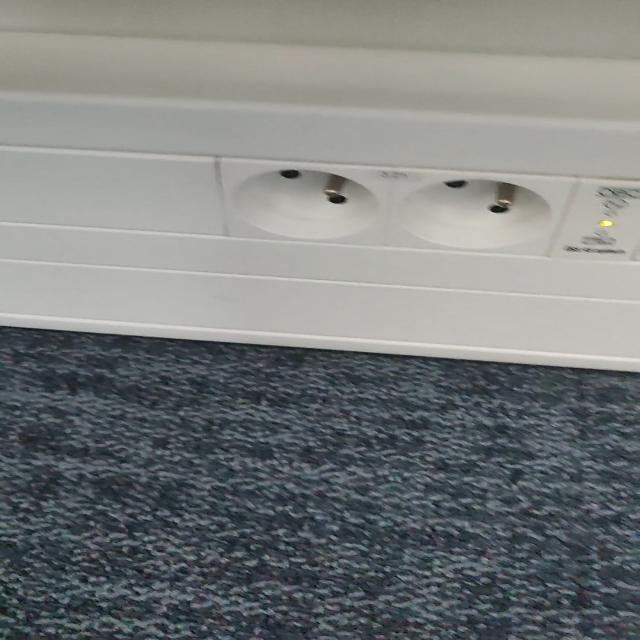house plug: (393, 168, 579, 258), (216, 159, 394, 247)
